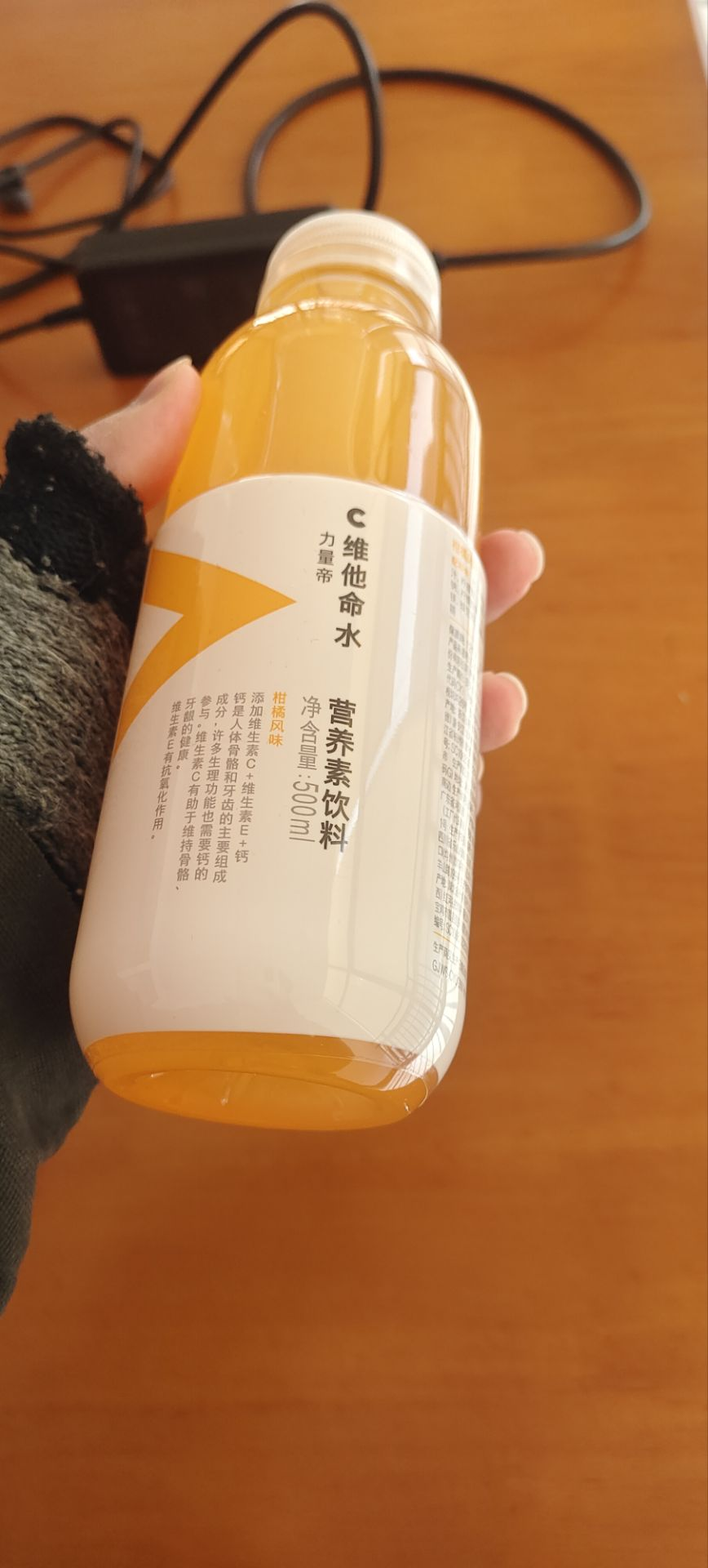redbull: (150, 203, 486, 1151)
